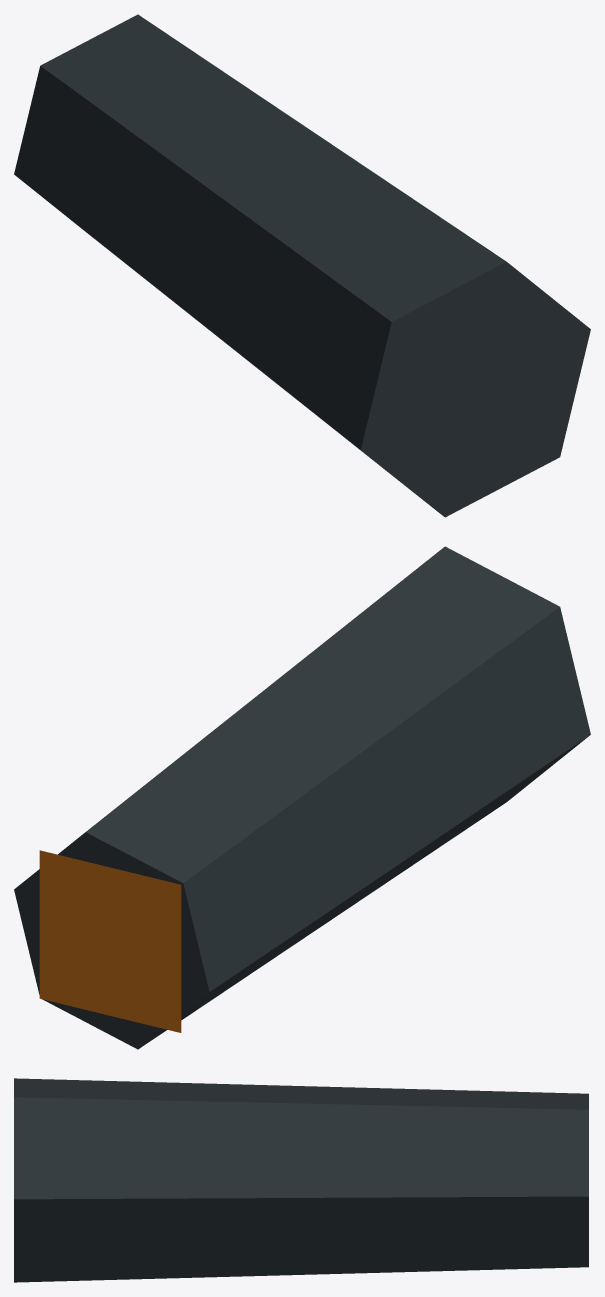
3 renders of one model, top to bottom at view 1: azimuth 30°, elevation 25°; view 2: azimuth 150°, elevation 25°; view 3: azimuth 270°, elevation 25°, orthographic. The views are drawn at different scales.
Visible parts, largest first — view 1: mount; view 2: mount; view 3: mount.
Part boxes in pixels (x1,y1,x2,y2): mount: [14, 14, 590, 517]; mount: [14, 546, 590, 1049]; mount: [14, 1078, 588, 1282].
Bounding box in the file's own units: 3.28 × 3.28 × 9.03.
